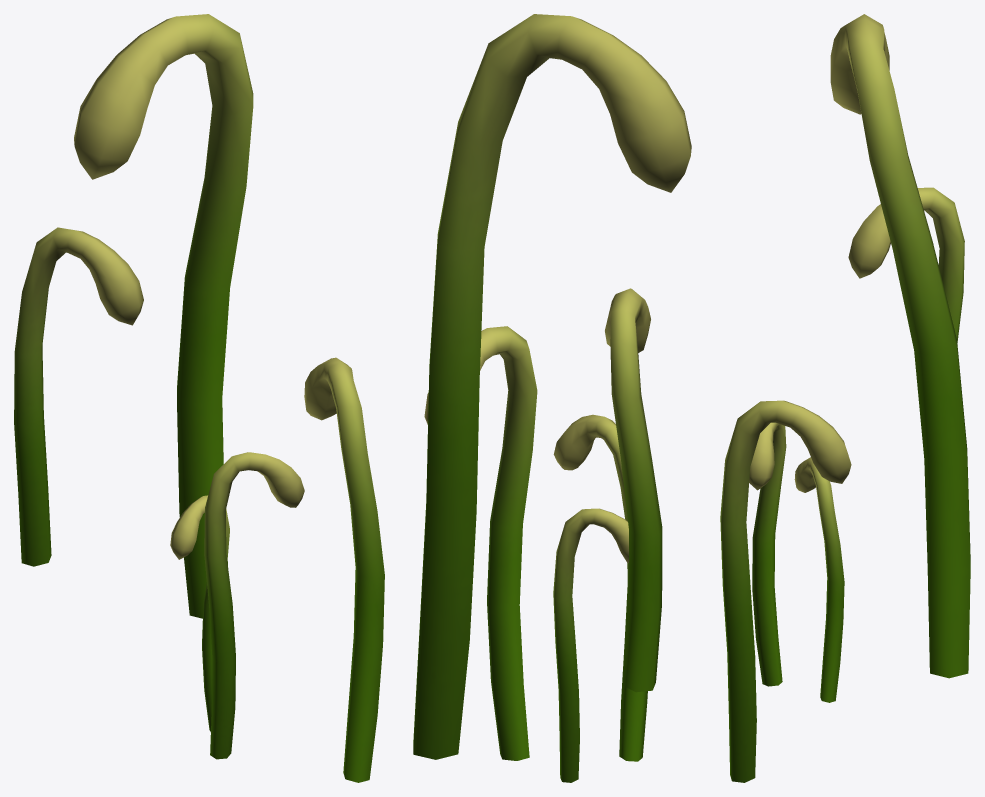
Rendered from Cartoon Seaweed_13-1-43.fbx.
The picture shows the model from 3 angles, left to right: view 1: azimuth 30°, elevation 25°; view 2: azimuth 150°, elevation 25°; view 3: azimuth 270°, elevation 25°; orthographic projection. The views are drawn at different scales.
Visible parts, largest first — view 1: Cartoon Seaweed_13.1.43; view 2: Cartoon Seaweed_13.1.43; view 3: Cartoon Seaweed_13.1.43.
Boxes of the visible parts, left/top/right/bottom form: Cartoon Seaweed_13.1.43: left=14, top=14, right=384, bottom=782; Cartoon Seaweed_13.1.43: left=413, top=14, right=691, bottom=782; Cartoon Seaweed_13.1.43: left=720, top=14, right=970, bottom=782.
Bounding box in the file's own units: 2.79 × 7.38 × 2.38.
Materials: 1 (1 with a texture image).
